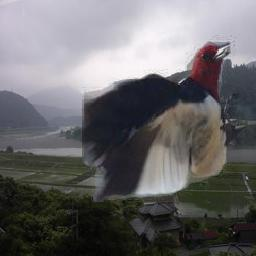Woodpecker: (83, 34, 246, 203)
